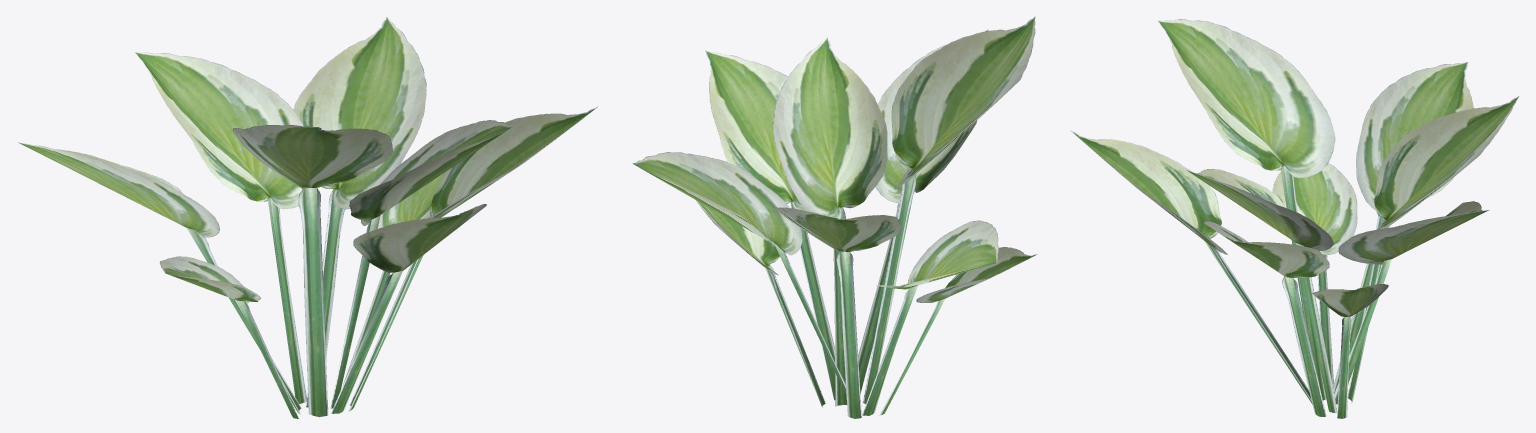
File: plant_small_wg_02I.fbx
3 views of the same model, side by side, from view 1: azimuth 30°, elevation 25°; view 2: azimuth 150°, elevation 25°; view 3: azimuth 270°, elevation 25° (orthographic). The views are drawn at different scales.
Visible parts, largest first — view 1: plant_small_wg_02I; view 2: plant_small_wg_02I; view 3: plant_small_wg_02I.
Part boxes in pixels (x1,y1,x2,y2): plant_small_wg_02I: (17,17,597,418); plant_small_wg_02I: (632,16,1037,418); plant_small_wg_02I: (1070,19,1519,418).
Size of the model in its own units: 72.5 by 58.02 by 69.54.
